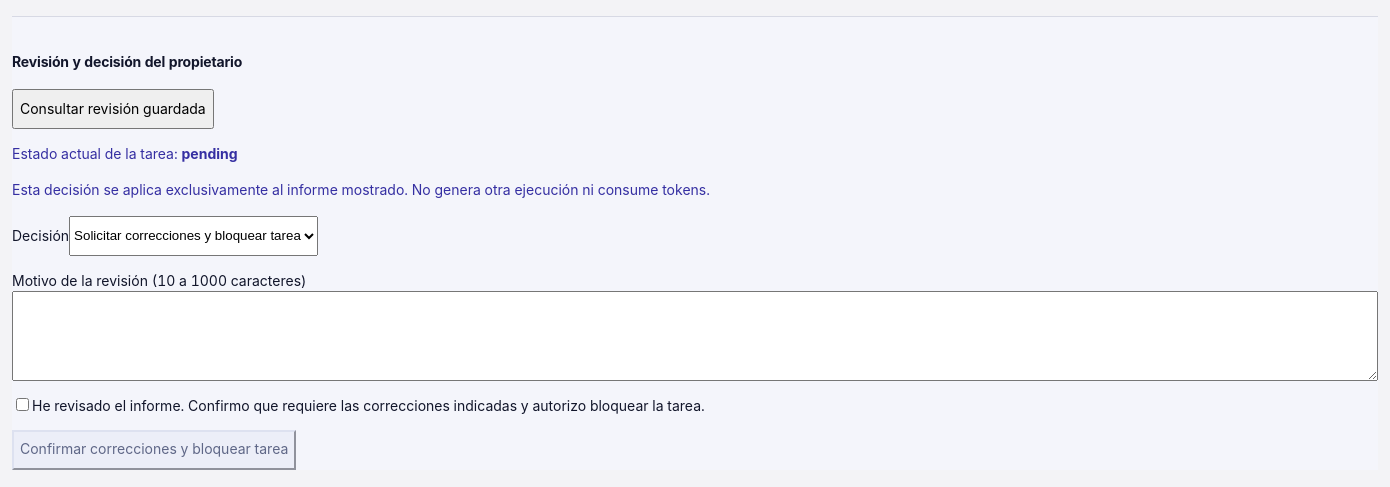
Test: document work review › reads after a lost reply and never resubmits the write
The image size is (1390, 487).
Later steps or results of the test are not shown.
Select "Aceptar informe y completar tarea" in the dropdown labelled "Decisión" at x=194, y=236, box [69,216,318,256]
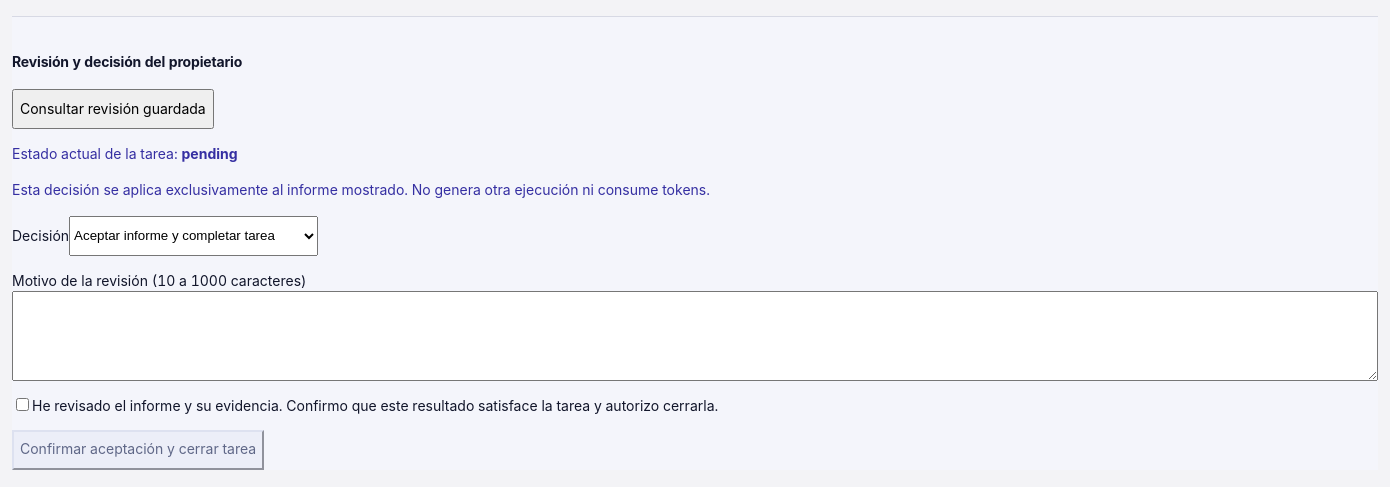
Type "Revisado el alcance y las conclusiones del informe" into the text box at x=695, y=336, box [12,291,1378,381]
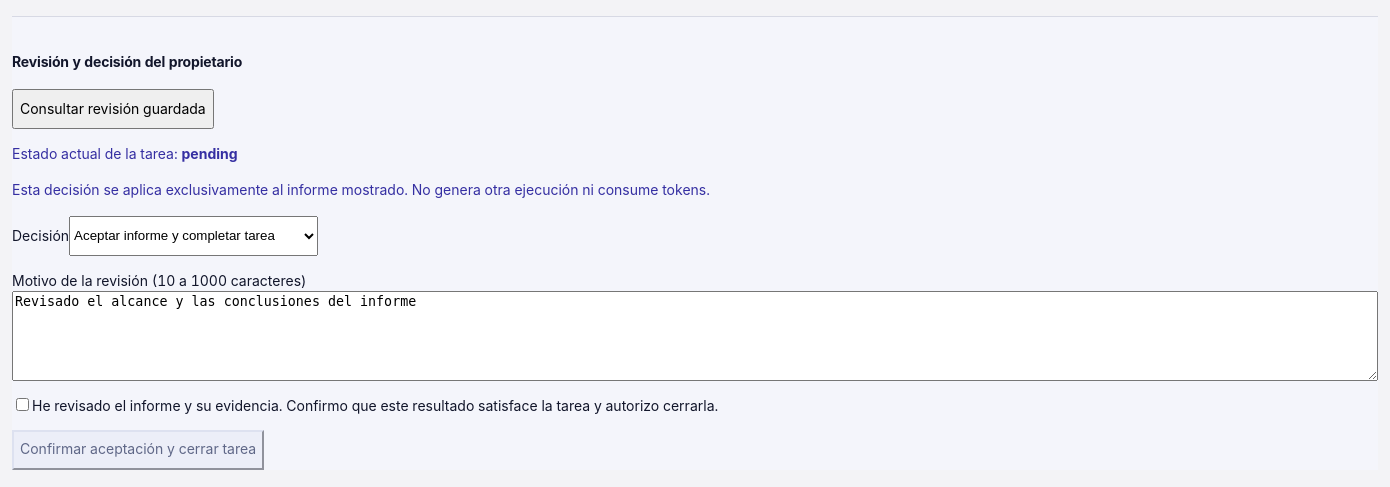
Click the checkbox at x=22, y=404, box [16,398,29,411]
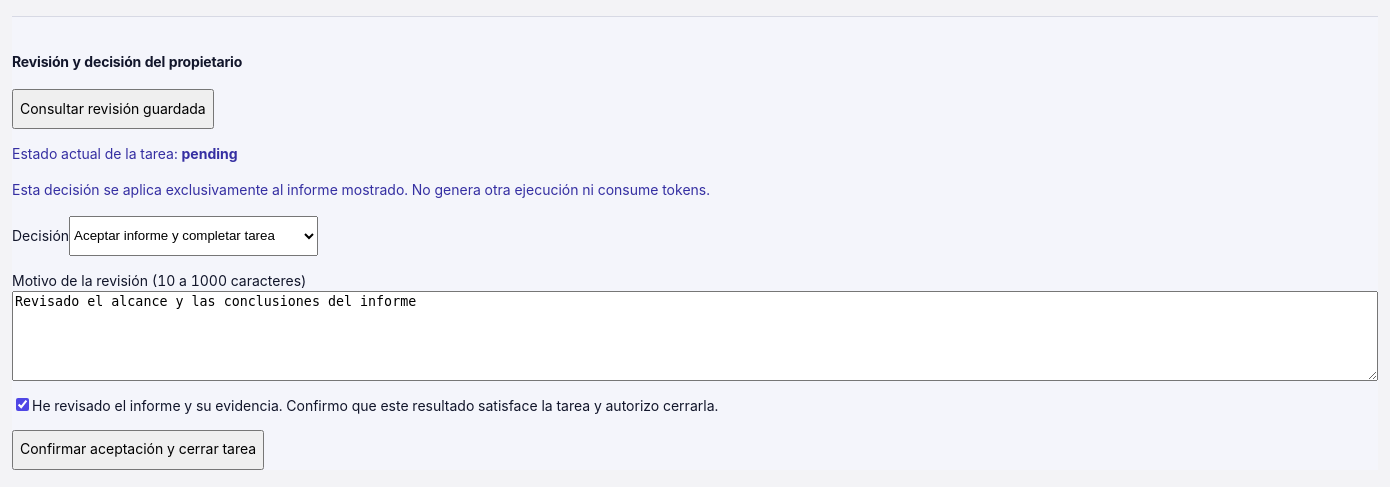
Click the button "Confirmar aceptación y cerrar tarea" at x=138, y=450, box [12,430,264,470]
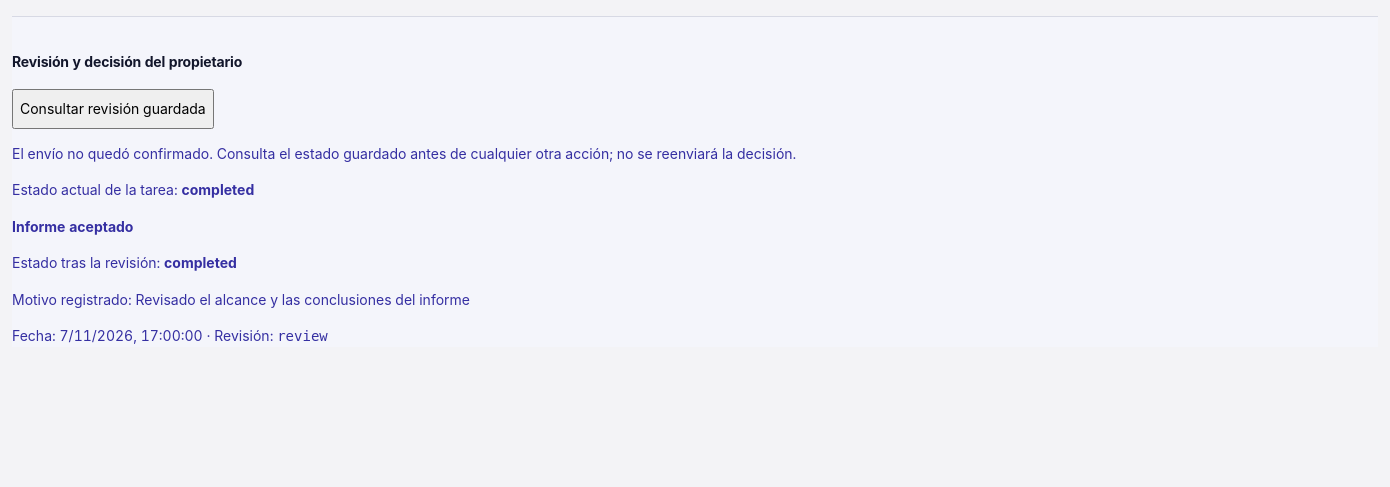
expect the text "Informe aceptado" is shown: met, box [12,218,134,235]
expect the 1st message is shown: met, box [12,145,796,162]
